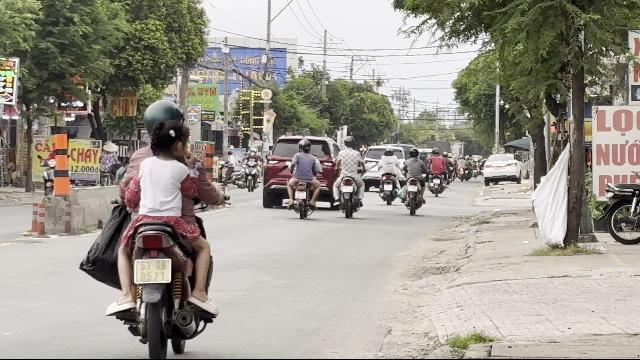helmet: (140, 97, 186, 135)
licenseplate: (135, 259, 171, 283)
motorcyclist: (85, 98, 225, 356)
nohelmet: (147, 118, 193, 172)
